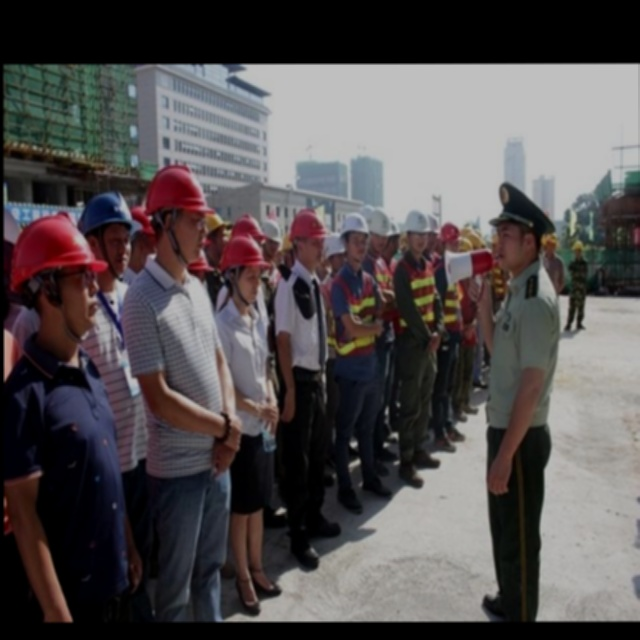Con_Casco: (144, 167, 211, 269)
Con_Chaleco: (391, 257, 437, 338)
Sin_Casco_Mascarrilla: (486, 182, 554, 267)
